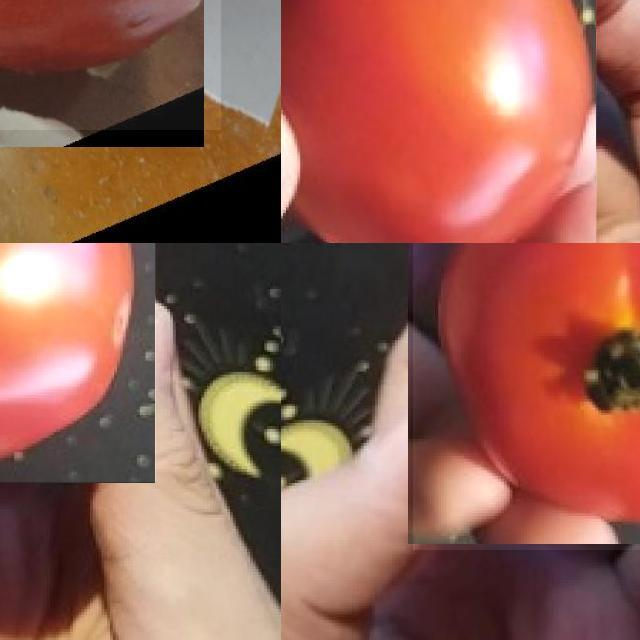Fresh Tomato: (281, 0, 597, 243), (413, 243, 640, 549), (0, 243, 156, 482)
Rotten Tomato: (0, 0, 221, 130)
